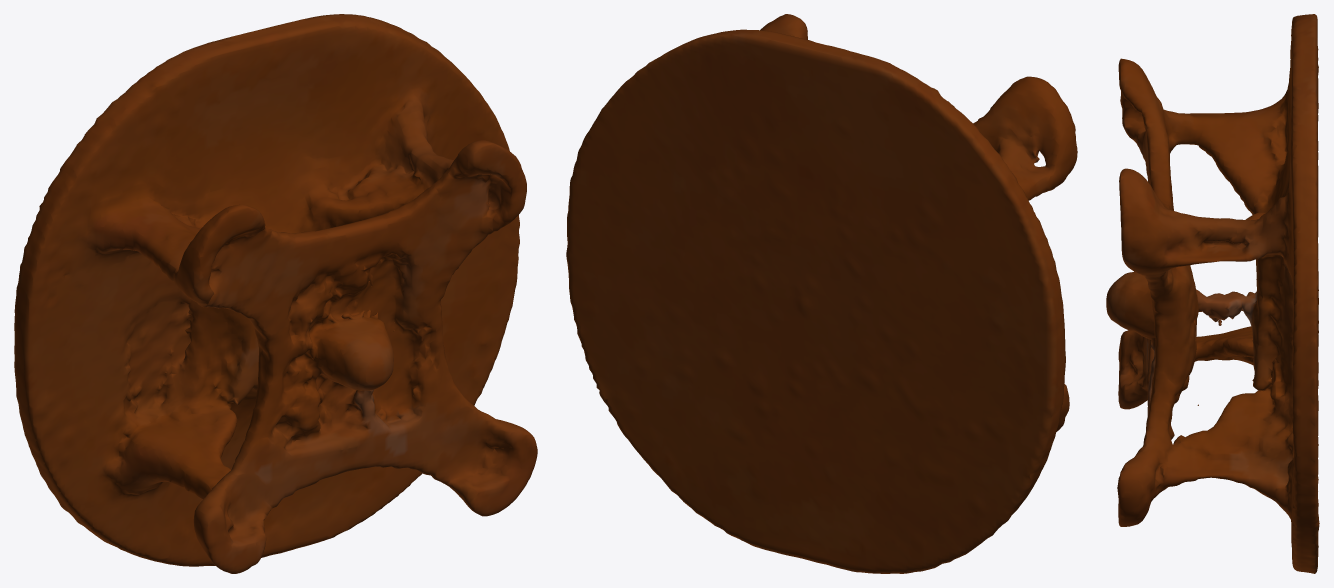
Rendered from A tan tear drop shaped wooden table with a grey cu.glb.
3 views of the same model, side by side, from view 1: azimuth 30°, elevation 25°; view 2: azimuth 150°, elevation 25°; view 3: azimuth 270°, elevation 25° (orthographic). The views are drawn at different scales.
Visible parts, largest first — view 1: A tan tear drop shaped wooden table with a grey cu; view 2: A tan tear drop shaped wooden table with a grey cu; view 3: A tan tear drop shaped wooden table with a grey cu.
Boxes of the visible parts, <box> form: A tan tear drop shaped wooden table with a grey cu: <box>14,14,537,573</box>; A tan tear drop shaped wooden table with a grey cu: <box>566,14,1077,573</box>; A tan tear drop shaped wooden table with a grey cu: <box>1106,14,1319,573</box>.
Size of the model in its own units: 1.01 by 1.01 by 0.3974.
